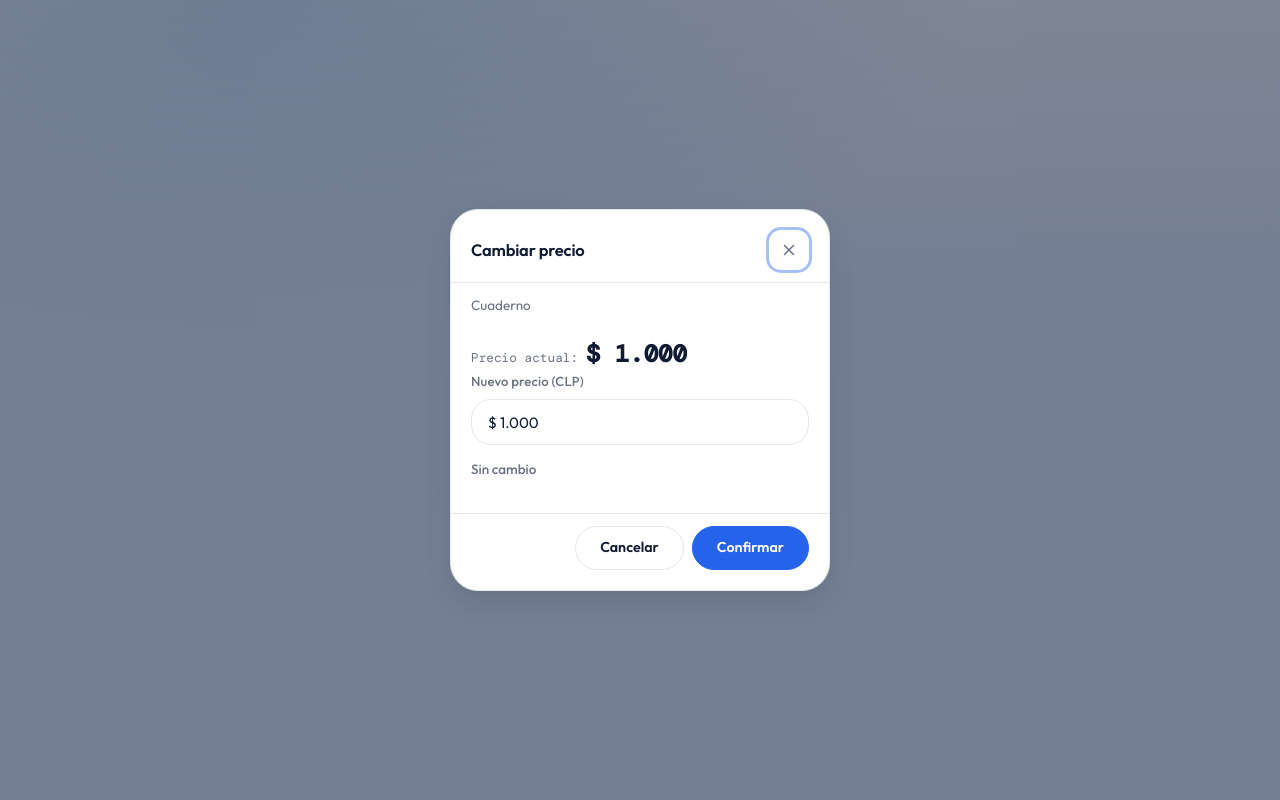
Test: CambiarPrecioModal › muestra preview de variación porcentual al cambiar el precio
The image size is (1280, 800).
Replace the text in the field labelled "Nuevo precio (CLP)" with "1080". click: (640, 422)
box: [472,400,808,444]
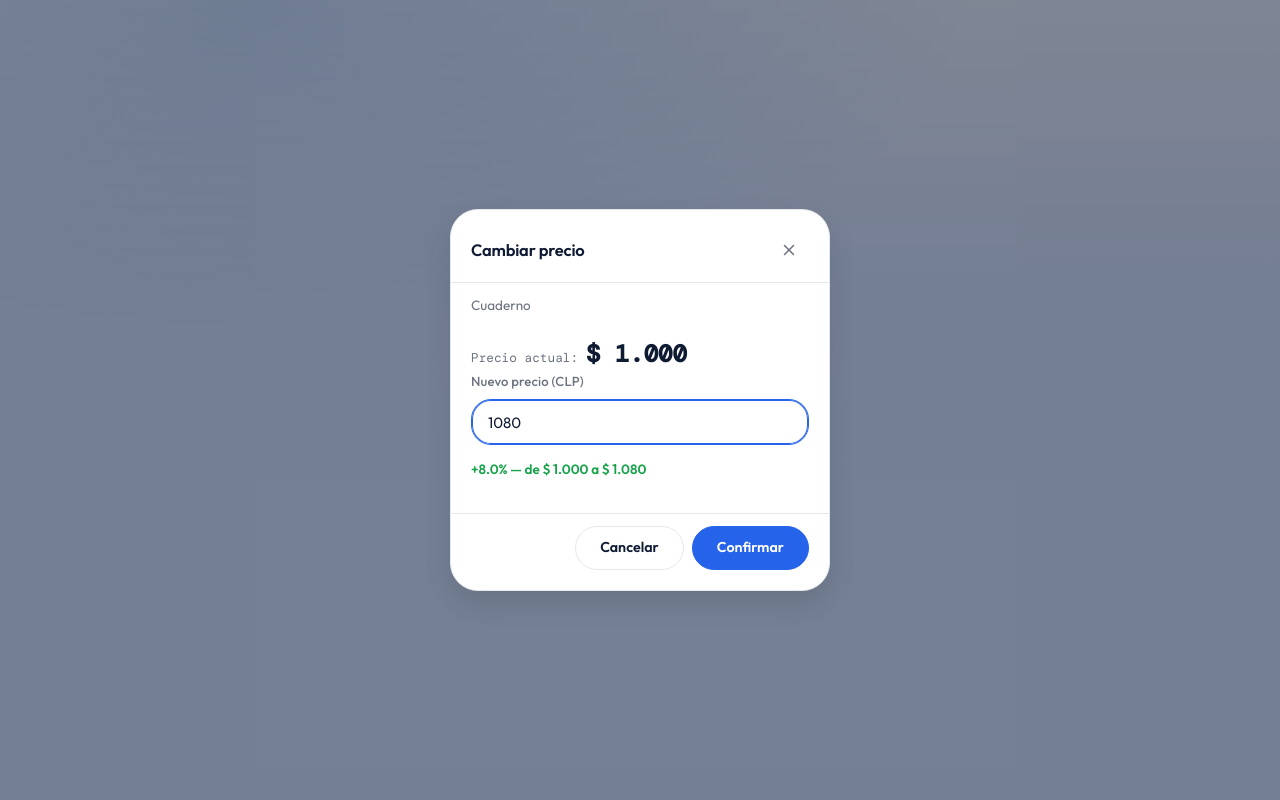
Result: the text "+8.0% — de $ 1.000 a $ 1.080" is shown at [471,460,646,478]
